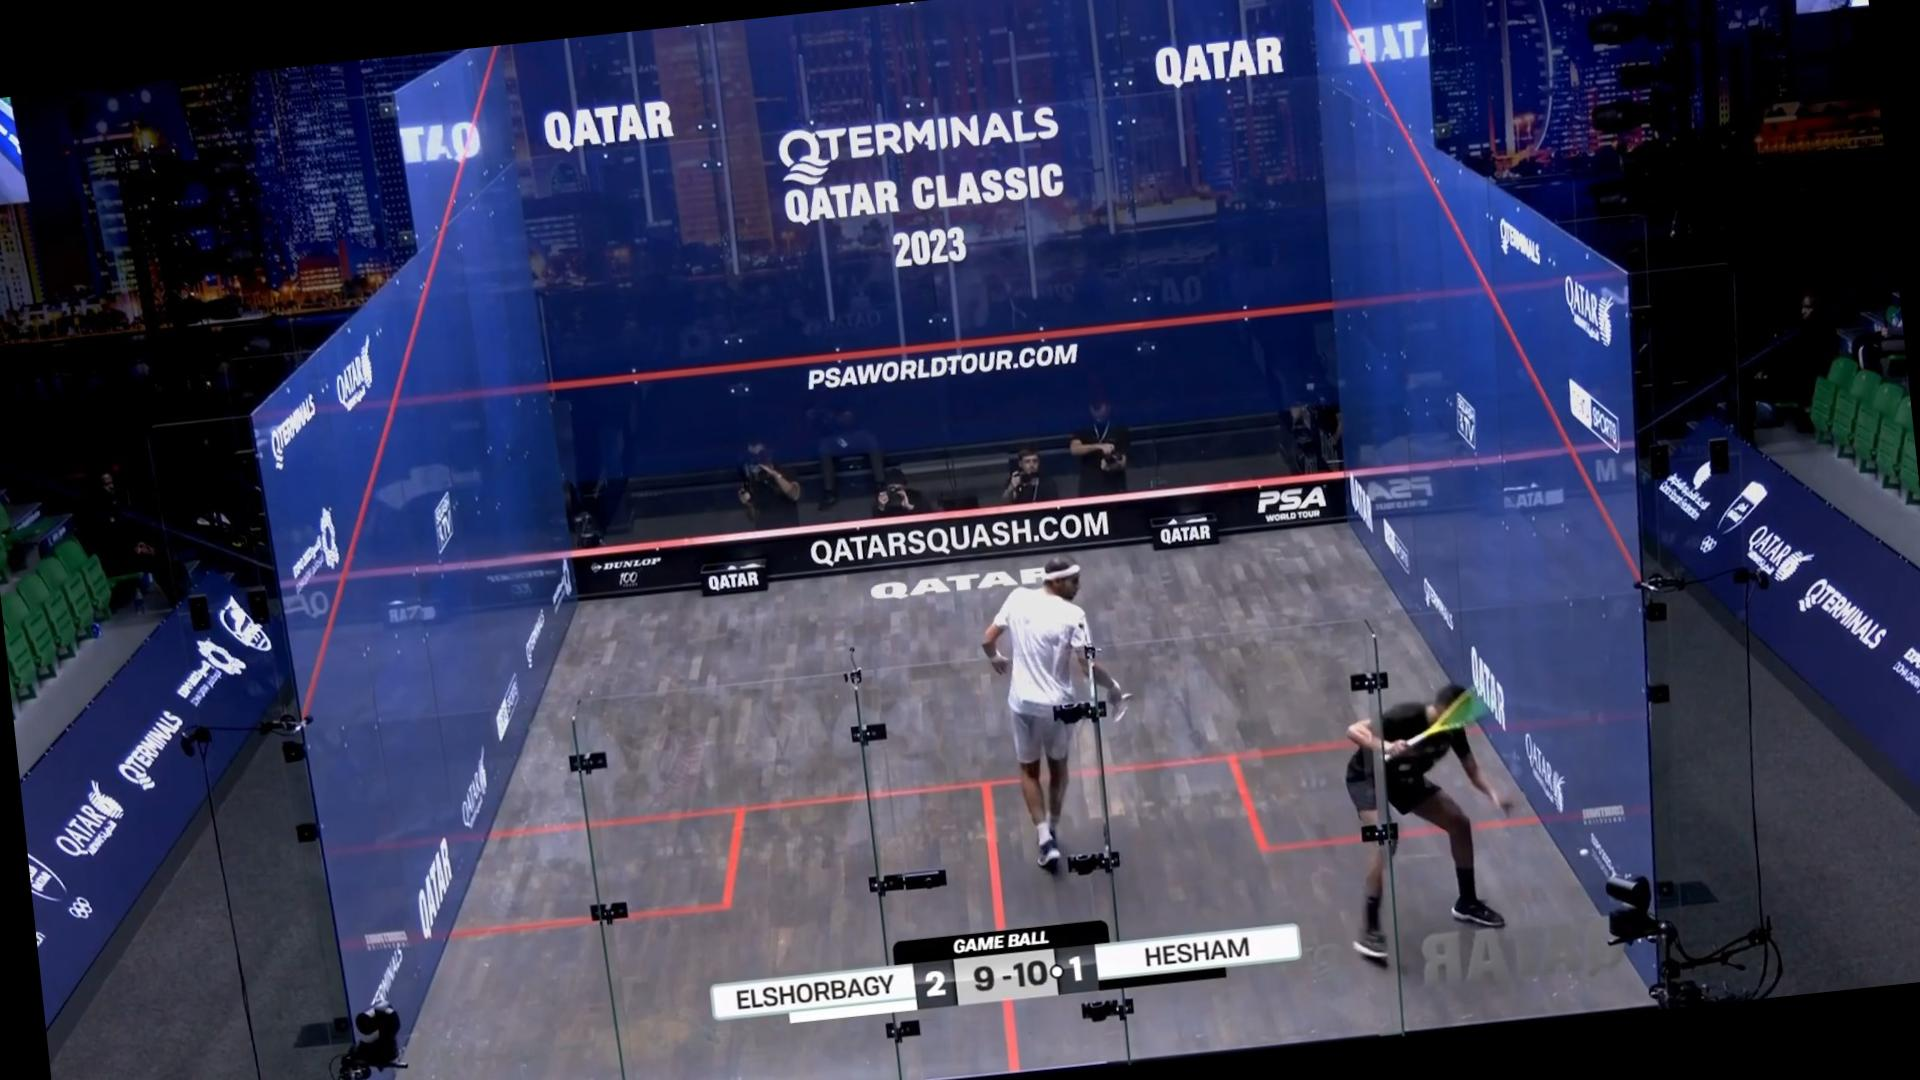Squash-Ball: (1564, 825, 1606, 881)
